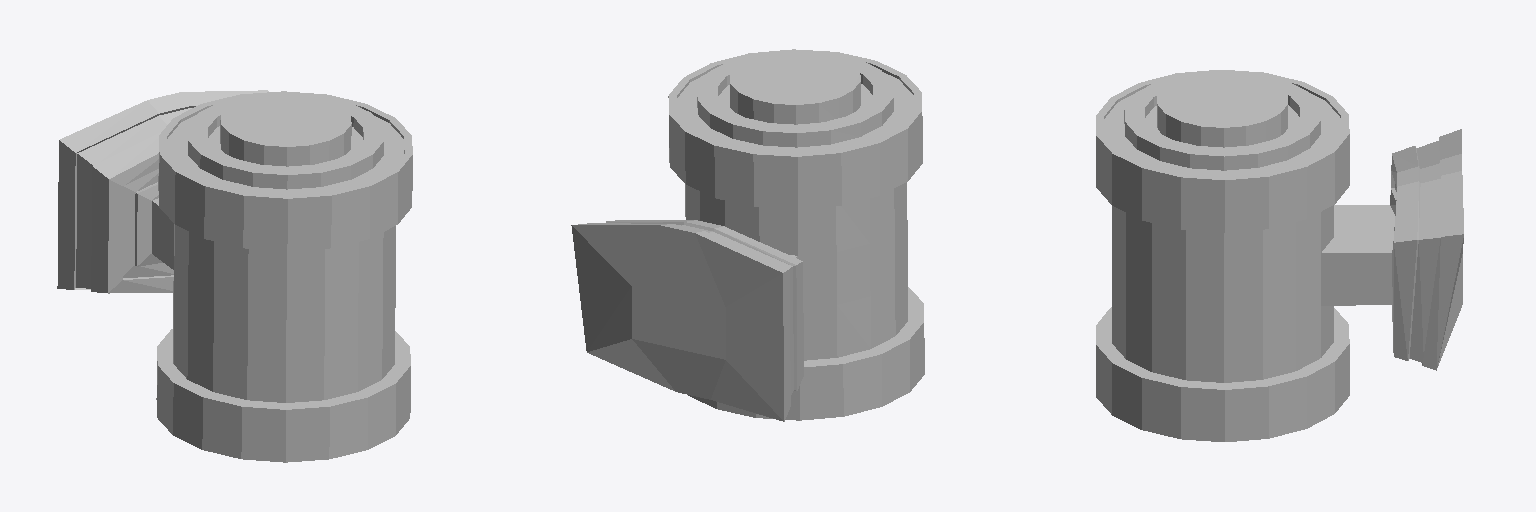
The model's file is RAnkleRoll_secondaryskin2.obj.
3 renders of one model, left to right at view 1: azimuth 30°, elevation 25°; view 2: azimuth 150°, elevation 25°; view 3: azimuth 270°, elevation 25°, orthographic.
Size of the model in its own units: 0.0636 by 0.0852 by 0.0902.